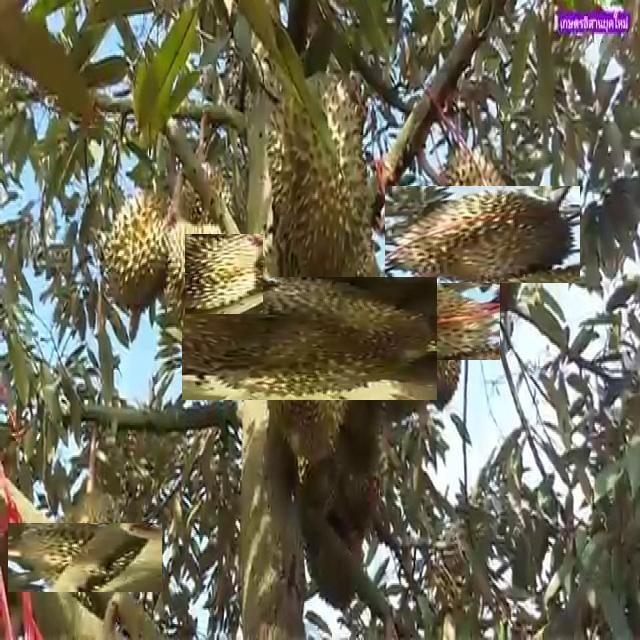durian: (215, 244, 405, 433), (266, 71, 370, 292), (410, 161, 556, 308), (345, 257, 474, 387), (99, 175, 185, 329), (29, 501, 141, 613), (154, 225, 253, 324)
